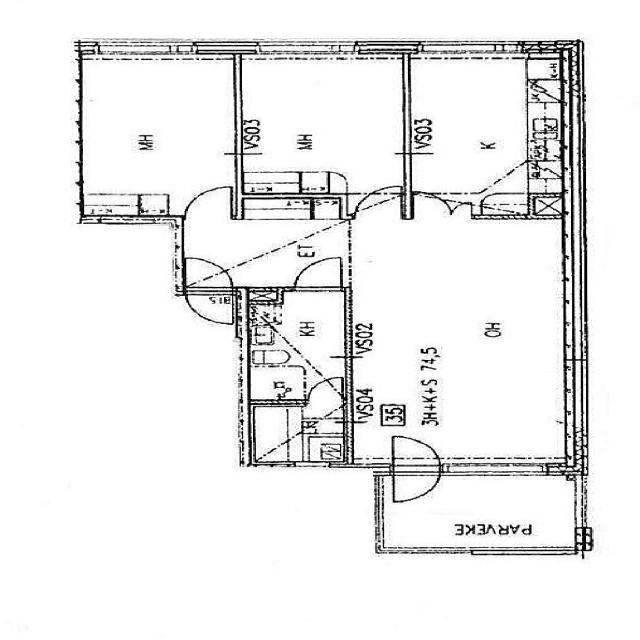door: (382, 434, 444, 508), (180, 257, 240, 322), (290, 254, 350, 289), (186, 184, 236, 218)
window: (552, 230, 592, 332), (553, 356, 594, 435), (396, 152, 417, 192), (294, 461, 333, 470)
zone: (346, 224, 576, 466), (76, 58, 238, 217), (404, 55, 564, 214), (235, 56, 410, 196), (184, 215, 358, 288), (246, 287, 350, 403), (244, 402, 350, 465), (247, 364, 308, 401), (240, 196, 314, 221)
